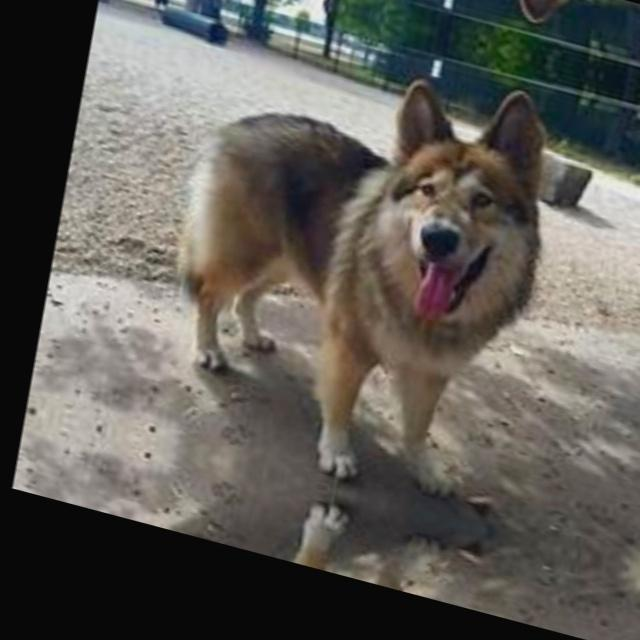dog: (164, 41, 587, 498), (142, 484, 508, 618)
